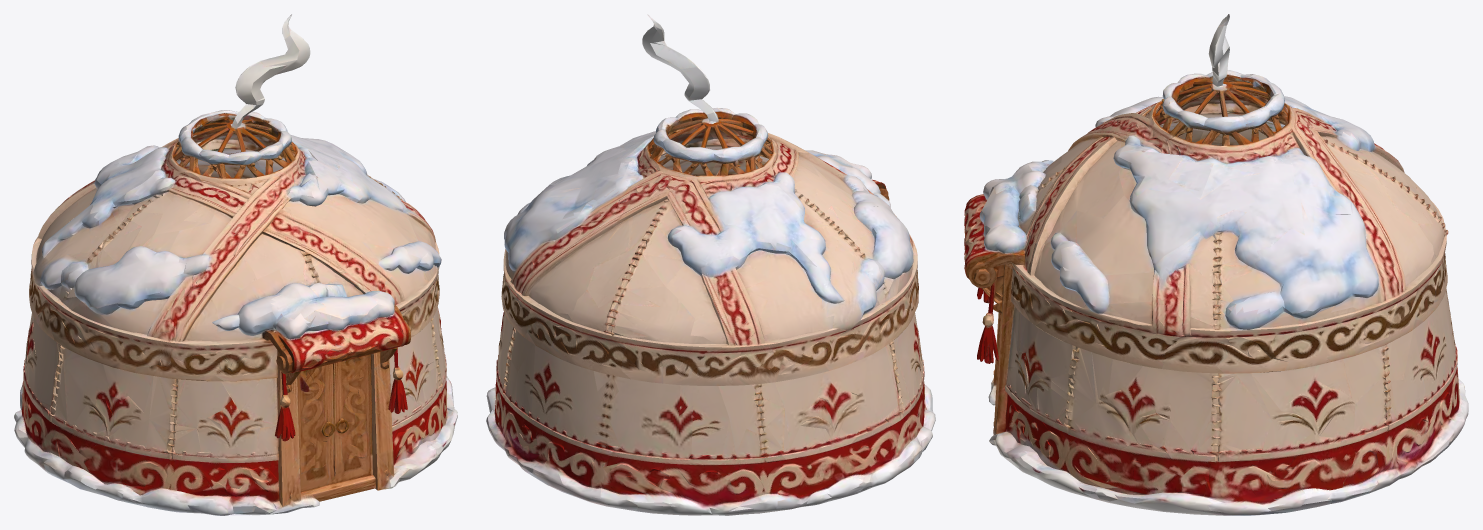
File: yurt.glb
3 renders of one model, left to right at view 1: azimuth 30°, elevation 25°; view 2: azimuth 150°, elevation 25°; view 3: azimuth 270°, elevation 25°, orthographic. The views are drawn at different scales.
Bounding box in the file's own units: 1.87 × 1.81 × 1.9.
Materials: 1 (1 with a texture image).
